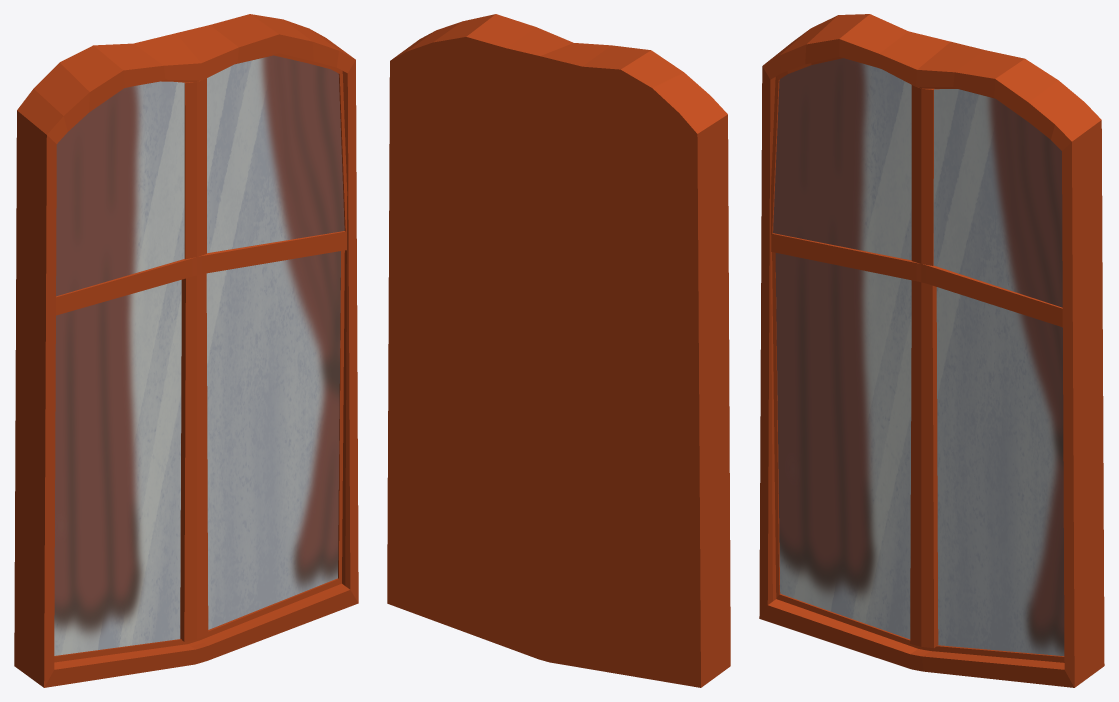
File: Window15.fbx
3 views of the same model, side by side, from view 1: azimuth 30°, elevation 25°; view 2: azimuth 150°, elevation 25°; view 3: azimuth 330°, elevation 25° (orthographic).
Visible parts, largest first — view 1: Cube.001; view 2: Cube.001; view 3: Cube.001.
Part boxes in pixels (left/top/right/bottom): Cube.001: left=14, top=14, right=358, bottom=687; Cube.001: left=387, top=14, right=730, bottom=687; Cube.001: left=759, top=14, right=1104, bottom=687.
Size of the model in its own units: 117 by 218 by 20.92.
